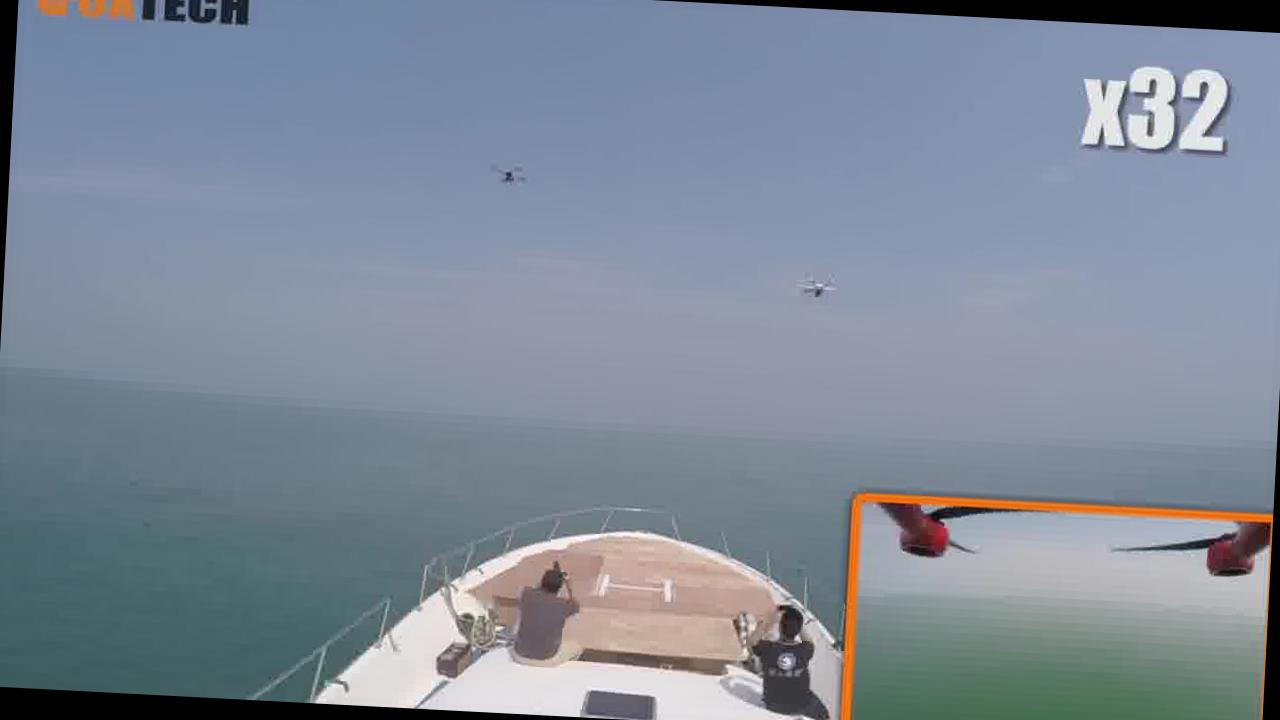drone: (466, 161, 551, 202), (793, 266, 845, 313)
